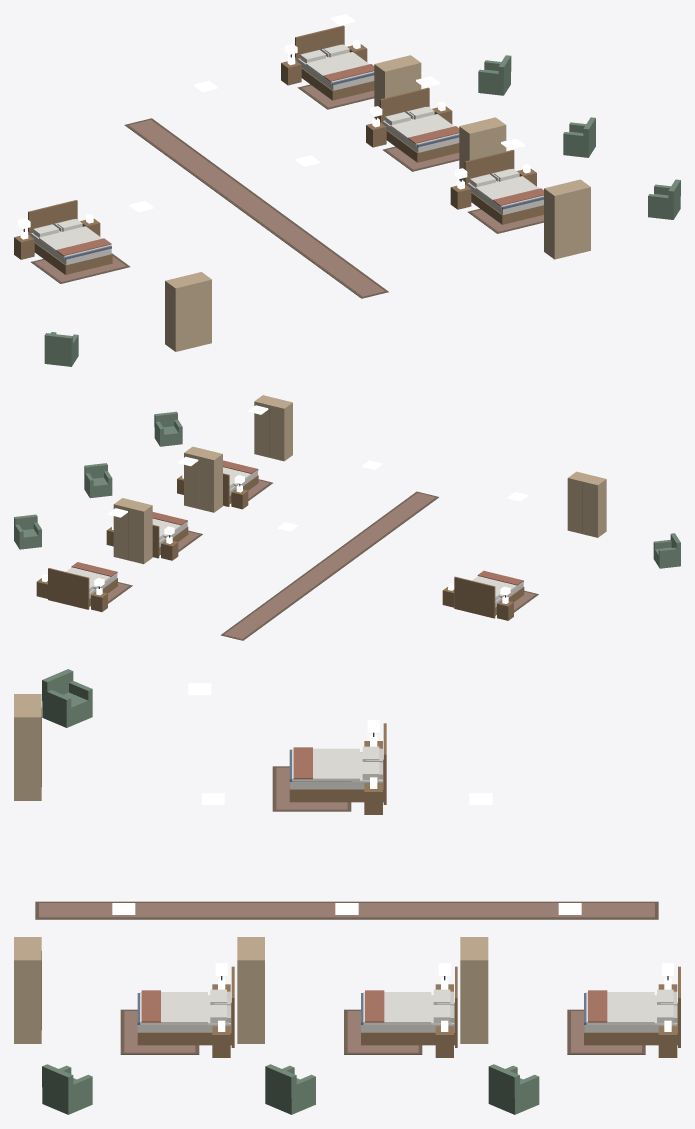
File: fine-s2.glb
The picture shows the model from 3 angles, top to bottom: view 1: azimuth 30°, elevation 25°; view 2: azimuth 150°, elevation 25°; view 3: azimuth 270°, elevation 25°; orthographic projection. The views are drawn at different scales.
Parts seen in each view (by area): view 1: soft-s2, dresser.004, dresser.007, bed-frame.004, bed-frame.006, bed-frame.005, bed-frame.007, dresser.005, dresser.006, lounge-chair.005, lounge-chair.004, lounge-chair.006 (+1 smaller); view 2: soft-s2, dresser.004, dresser.005, dresser.006, dresser.007, bed-frame.004, bed-frame.005, lounge-chair.006, lounge-chair.007, lounge-chair.005, lounge-chair.004, bed-frame.006 (+1 smaller); view 3: soft-s2, dresser.005, dresser.004, dresser.006, dresser.007, lounge-chair.004, bed-frame.004, bed-frame.007, bed-frame.006, bed-frame.005, lounge-chair.005, lounge-chair.006 (+2 smaller).
Boxes of the visible parts, box(x1,y1,x2,y2) form: soft-s2: box(18, 44, 543, 298); dresser.004: box(165, 272, 211, 351); dresser.007: box(544, 179, 590, 259); bed-frame.004: box(28, 200, 112, 274); bed-frame.006: box(379, 87, 459, 162); bed-frame.005: box(295, 25, 374, 100); bed-frame.007: box(464, 149, 543, 224); dresser.005: box(374, 55, 421, 119); dresser.006: box(459, 117, 506, 181); lounge-chair.005: box(478, 55, 511, 95); lounge-chair.004: box(44, 332, 78, 366); lounge-chair.006: box(563, 117, 595, 157); soft-s2: box(66, 460, 538, 640); dresser.004: box(567, 471, 606, 537); dresser.005: box(113, 498, 152, 564); dresser.006: box(184, 446, 222, 512); dresser.007: box(254, 395, 292, 461); bed-frame.004: box(454, 576, 524, 618); bed-frame.005: box(48, 568, 117, 609); lounge-chair.006: box(84, 463, 112, 498); lounge-chair.007: box(154, 411, 182, 446); lounge-chair.005: box(14, 514, 41, 549); lounge-chair.004: box(653, 533, 680, 568); bed-frame.006: box(152, 520, 188, 558); soft-s2: box(35, 720, 675, 1054); dresser.005: box(460, 937, 488, 1043); dresser.004: box(14, 694, 41, 800); dresser.006: box(237, 937, 264, 1043); dresser.007: box(14, 937, 41, 1043); lounge-chair.004: box(42, 669, 92, 727); bed-frame.004: box(289, 723, 386, 804); bed-frame.007: box(137, 966, 234, 1047); bed-frame.006: box(361, 966, 457, 1047); bed-frame.005: box(584, 966, 680, 1047); lounge-chair.005: box(488, 1064, 539, 1114); lounge-chair.006: box(265, 1064, 315, 1114).
Bounding box in the file's own units: 20.94 × 2.7 × 14.45.
